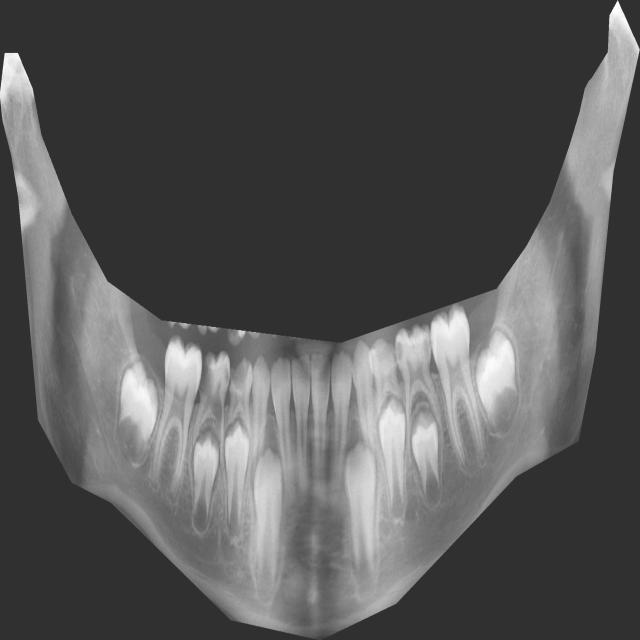mandibula: (0, 0, 640, 640)
